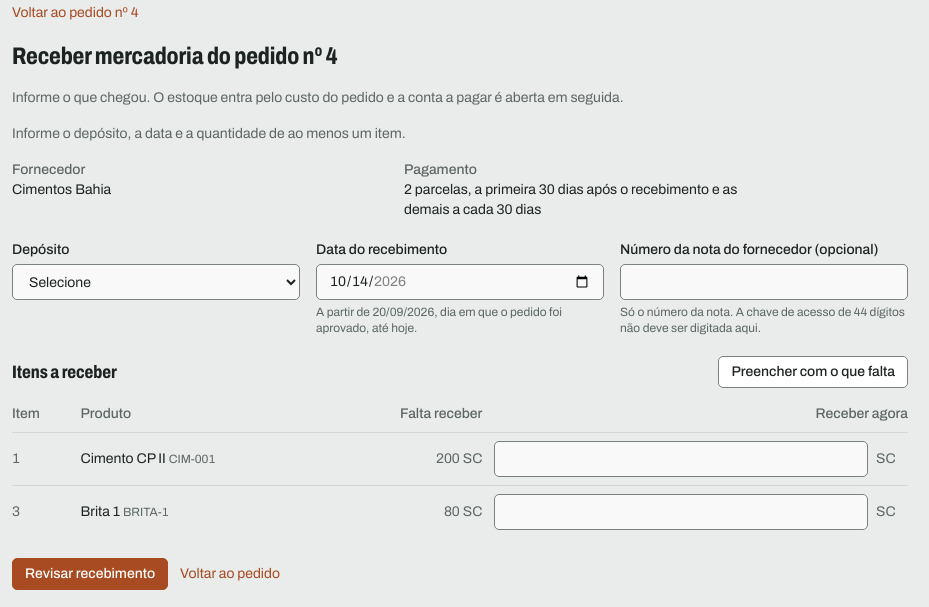
ReceiveGoodsScreen › fills every open line with what is left, in the way it is typed, and says so
Click the button "Preencher com o que falta": (813, 372) [718,356,908,388]
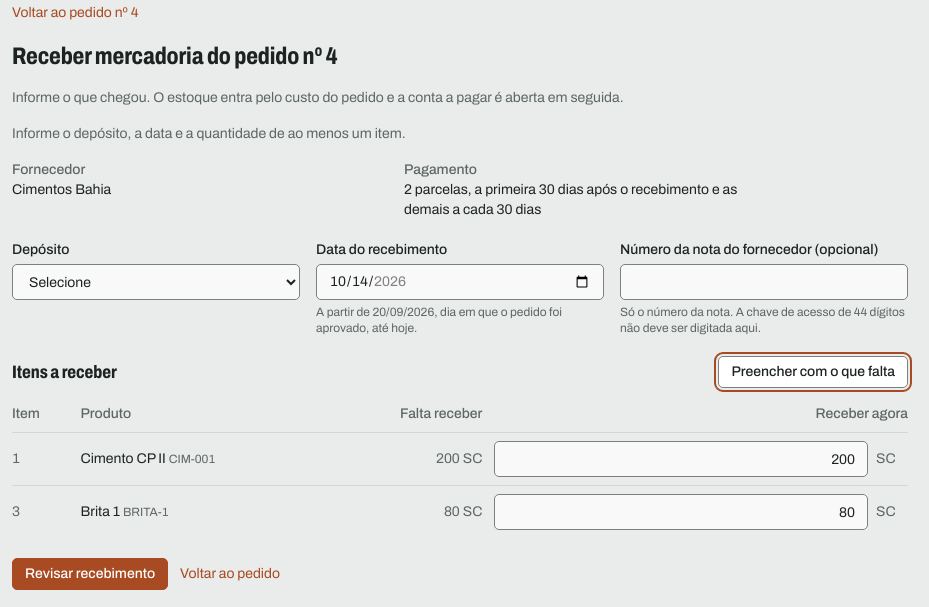
Expected: the field named "Quantidade a receber, item 1: Cimento CP II" holds "200", [494,441,868,477]
